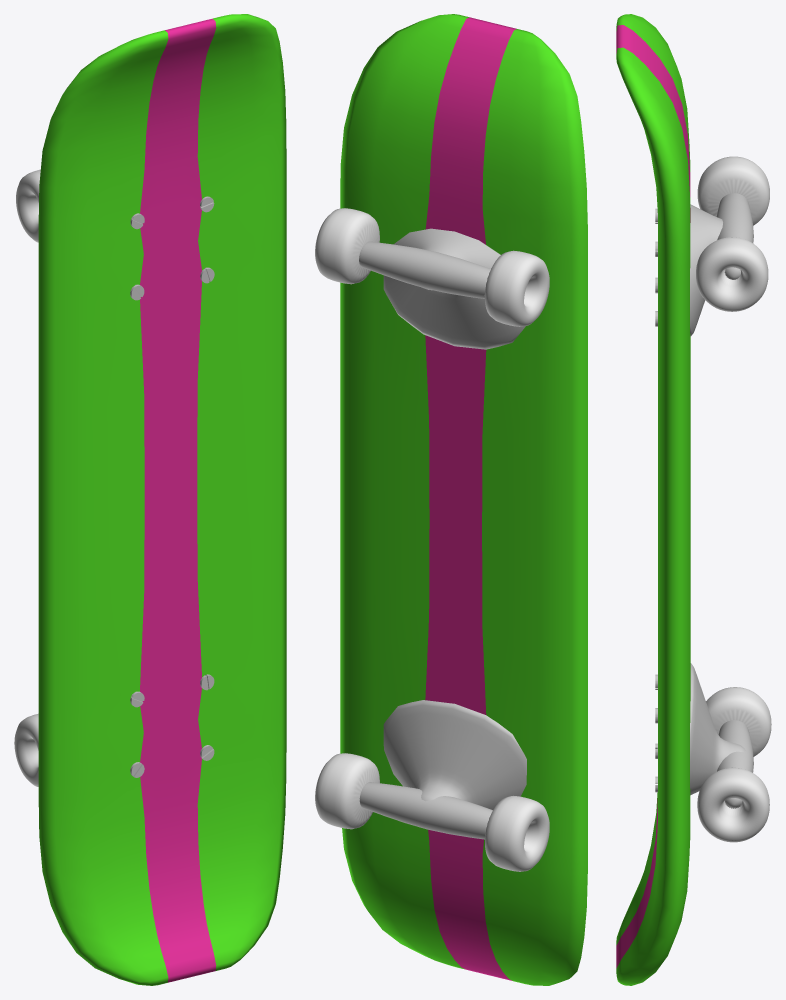
The model's file is SkateBea.glb.
3 renders of one model, left to right at view 1: azimuth 30°, elevation 25°; view 2: azimuth 150°, elevation 25°; view 3: azimuth 270°, elevation 25°, orthographic. The views are drawn at different scales.
Visible parts, largest first — view 1: skate, roue_top_right, roue_bottom_right; view 2: skate, roue_top_right, roue_bottom_right, roue_bottom_left, roue_top_left; view 3: skate, roue_top_left, roue_bottom_left, roue_bottom_right, roue_top_right.
Part boxes in pixels (x1,y1,x2,y2): skate: (38,14,286,985); roue_top_right: (14,713,38,786); roue_bottom_right: (16,169,40,242); skate: (340,14,587,985); roue_top_right: (485,795,549,871); roue_bottom_right: (484,250,549,326); roue_bottom_left: (315,208,379,284); roue_top_left: (315,753,379,829); skate: (616,14,753,985); roue_top_left: (697,767,769,842); roue_bottom_left: (696,237,768,311); roue_bottom_right: (697,156,769,225); roue_top_right: (706,687,771,756).
Bounding box in the file's own units: 1.13 × 4.14 × 0.6279.
